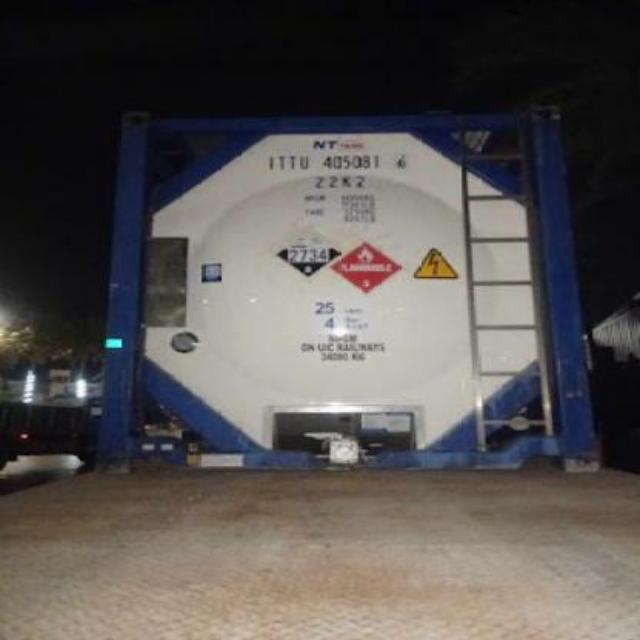0: (352, 154, 358, 170), (332, 156, 340, 166)
1: (372, 156, 382, 174)
4: (322, 154, 332, 172)
5: (342, 154, 350, 170)
6: (396, 150, 409, 172)
8: (362, 156, 372, 168)
I: (266, 153, 276, 171)
T: (278, 144, 286, 176), (286, 154, 298, 174)
U: (298, 154, 312, 168)
